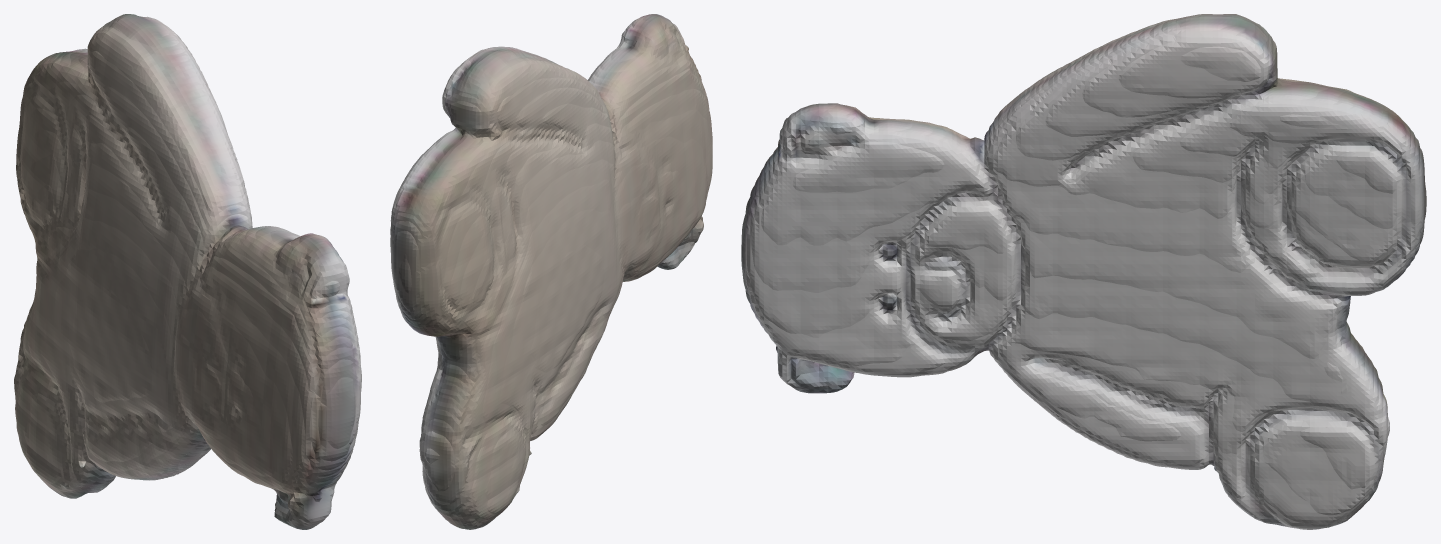
3 views of the same model, side by side, from view 1: azimuth 30°, elevation 25°; view 2: azimuth 150°, elevation 25°; view 3: azimuth 270°, elevation 25° (orthographic). The views are drawn at different scales.
Visible parts, largest first — view 1: world; view 2: world; view 3: world.
Part boxes in pixels (left/top/right/bottom): world: left=14, top=14, right=361, bottom=529; world: left=390, top=14, right=712, bottom=529; world: left=741, top=14, right=1426, bottom=529.
Bounding box in the file's own units: 0.1718 × 0.8683 × 1.02.
